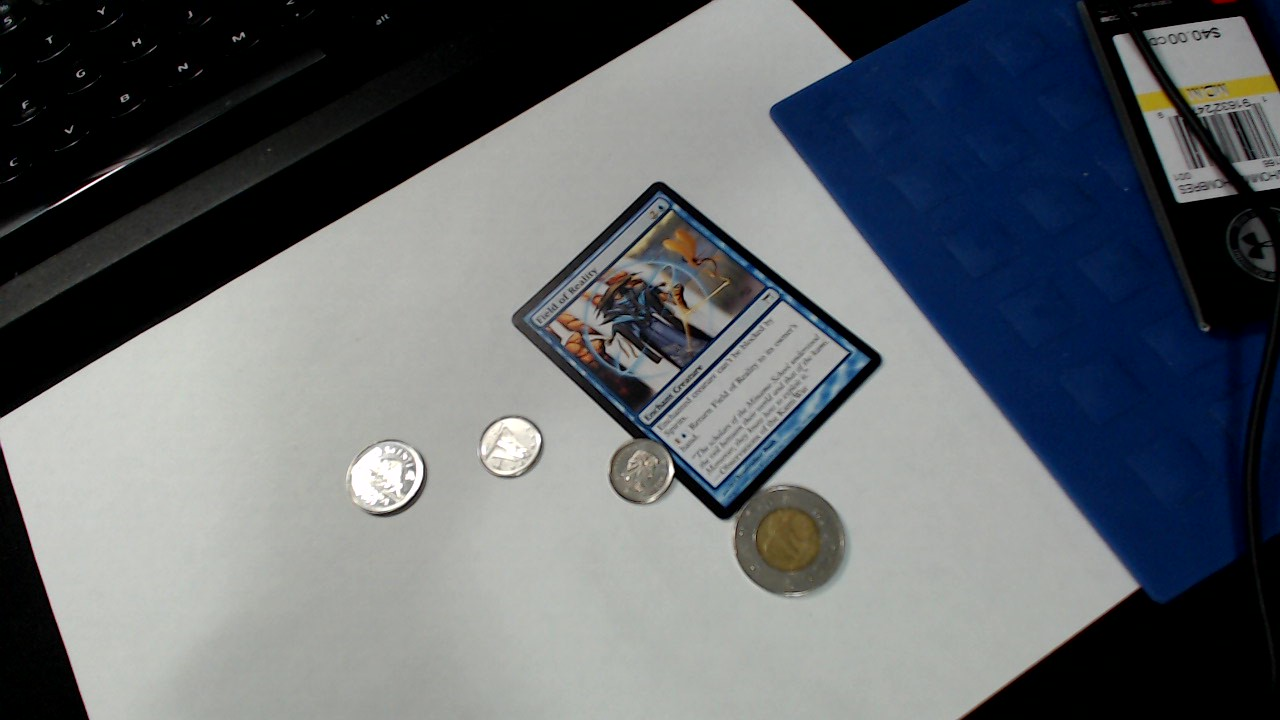MTG Card: (502, 179, 896, 527)
